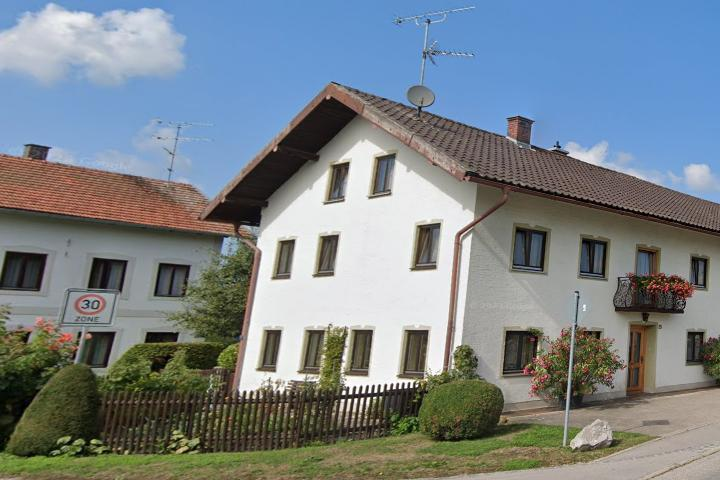traffic_sign: (74, 294, 107, 315)
